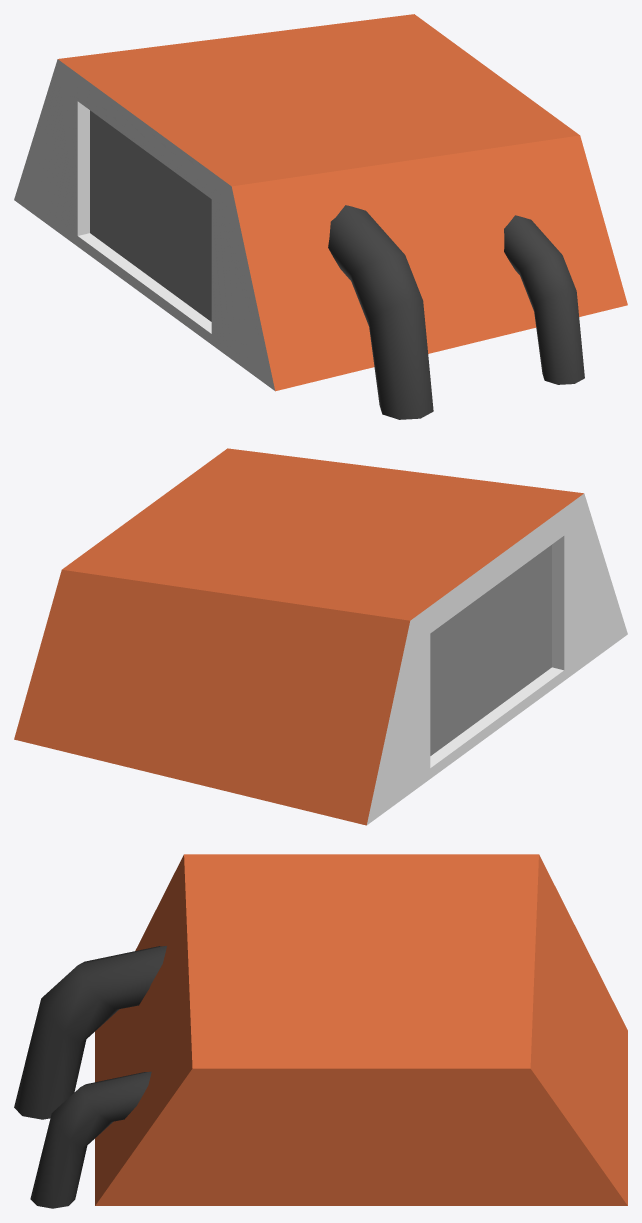
Rendered from Machine_3.fbx.
3 renders of one model, top to bottom at view 1: azimuth 30°, elevation 25°; view 2: azimuth 150°, elevation 25°; view 3: azimuth 270°, elevation 25°, orthographic.
Parts seen in each view (by area): view 1: Machine_3; view 2: Machine_3; view 3: Machine_3.
Part boxes in pixels (x1,y1,x2,y2): Machine_3: (14,14,627,419); Machine_3: (14,448,627,825); Machine_3: (14,854,627,1208).
Size of the model in its own units: 541 by 305 by 800.
